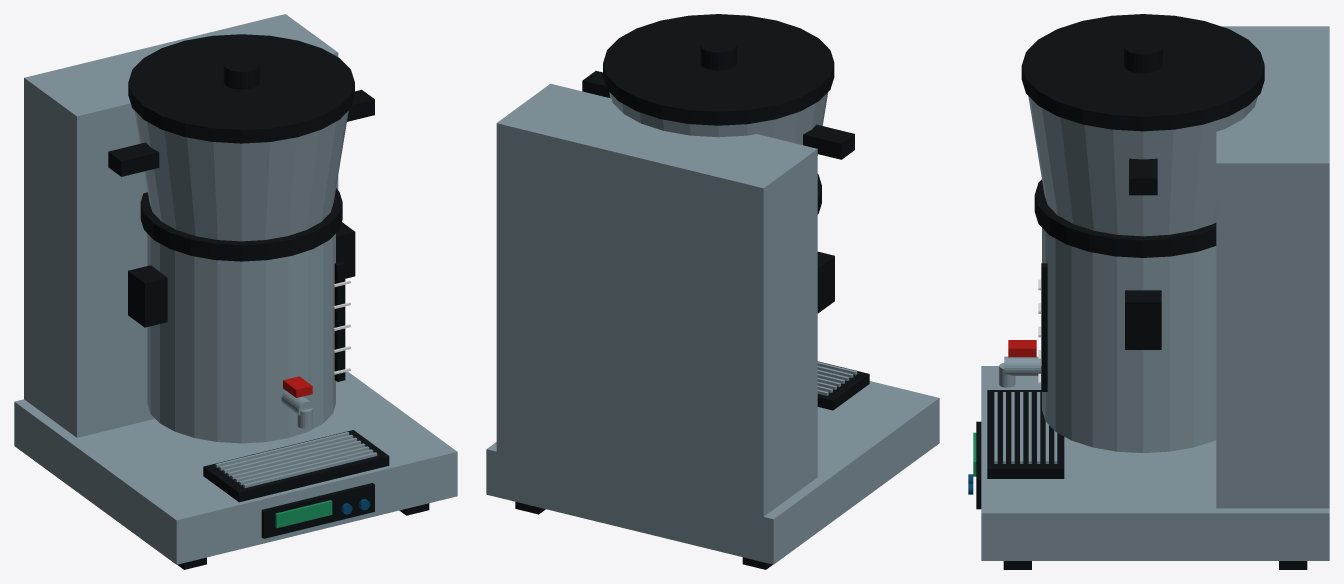
Rendered from tea_brewer.dae.
3 renders of one model, left to right at view 1: azimuth 30°, elevation 25°; view 2: azimuth 150°, elevation 25°; view 3: azimuth 270°, elevation 25°, orthographic. The views are drawn at different scales.
Parts seen in each view (by area): view 1: heating_column, base, tea_vessel, brew_lid, brew_basket, vessel_lid, drip_tray_tray, vessel_handle (×2), control_panel, basket_handle (×2), sight_gauge, lid_knob (+9 smaller); view 2: heating_column, base, brew_lid, brew_basket, basket_handle, lid_knob, vessel_handle, drip_tray_tray; view 3: heating_column, base, tea_vessel, brew_lid, brew_basket, drip_tray_tray, vessel_lid, vessel_handle, lid_knob, basket_handle, sight_gauge, tea_tap_outlet (+2 smaller).
Boxes of the visible parts, bbox=[...] form: heating_column: bbox=[24, 14, 338, 437]; base: bbox=[14, 371, 457, 564]; tea_vessel: bbox=[147, 234, 335, 443]; brew_lid: bbox=[128, 34, 354, 143]; brew_basket: bbox=[134, 110, 348, 241]; vessel_lid: bbox=[140, 188, 342, 261]; drip_tray_tray: bbox=[203, 430, 389, 502]; vessel_handle (×2): bbox=[128, 222, 355, 327]; control_panel: bbox=[261, 483, 374, 538]; basket_handle (×2): bbox=[108, 89, 374, 176]; sight_gauge: bbox=[334, 261, 345, 381]; lid_knob: bbox=[223, 56, 259, 89]; heating_column: bbox=[496, 83, 817, 516]; base: bbox=[486, 381, 939, 564]; brew_lid: bbox=[603, 14, 834, 125]; brew_basket: bbox=[609, 92, 828, 155]; basket_handle: bbox=[803, 124, 854, 159]; lid_knob: bbox=[700, 37, 737, 70]; vessel_handle: bbox=[817, 251, 834, 313]; drip_tray_tray: bbox=[817, 361, 869, 410]; heating_column: bbox=[1216, 26, 1329, 508]; base: bbox=[981, 366, 1329, 560]; tea_vessel: bbox=[1042, 228, 1216, 452]; brew_lid: bbox=[1021, 14, 1264, 131]; brew_basket: bbox=[1028, 96, 1257, 236]; drip_tray_tray: bbox=[987, 390, 1064, 478]; vessel_lid: bbox=[1034, 179, 1216, 257]; vessel_handle: bbox=[1125, 290, 1161, 349]; lid_knob: bbox=[1124, 38, 1162, 73]; basket_handle: bbox=[1129, 158, 1157, 195]; sight_gauge: bbox=[1041, 263, 1047, 391]; tea_tap_outlet: bbox=[1004, 356, 1040, 375].
Size of the model in its own units: 430 by 446 by 626.
